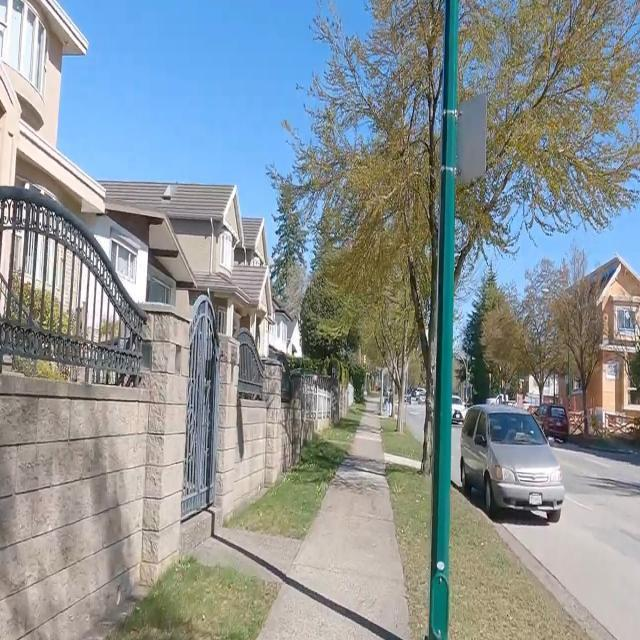Automobile: (460, 404, 564, 521), (534, 403, 568, 441), (452, 395, 466, 423)
Road: (504, 446, 639, 639), (406, 404, 422, 445), (451, 425, 459, 485), (451, 425, 458, 484)
Sidewalk: (201, 413, 410, 639)
